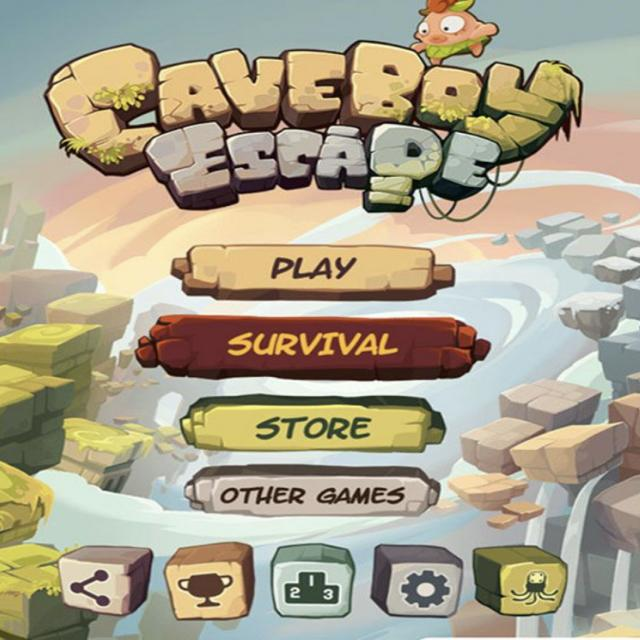Start-button: (170, 231, 462, 300)
